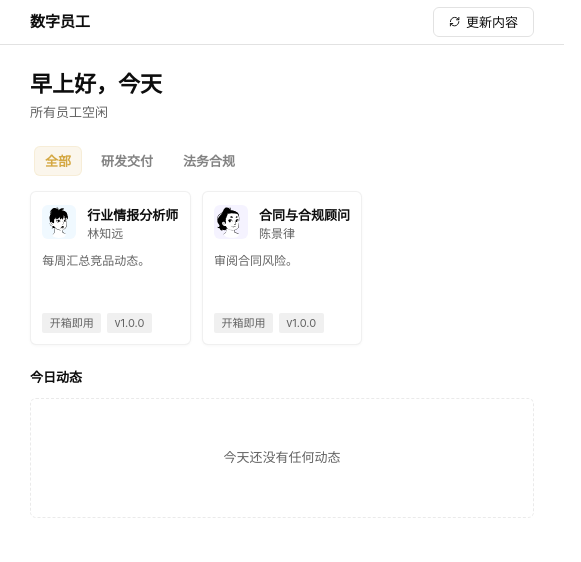
Test: EmployeesPage › filters employee templates with horizontal category tabs
Expected: the button "全部" is shown, top-left (34, 146), bottom-right (82, 176)
Expected: the button "研发交付" is shown, top-left (90, 146), bottom-right (164, 176)
Click the button "法务合规" at (209, 161), box top-left (172, 146), bottom-right (246, 176)
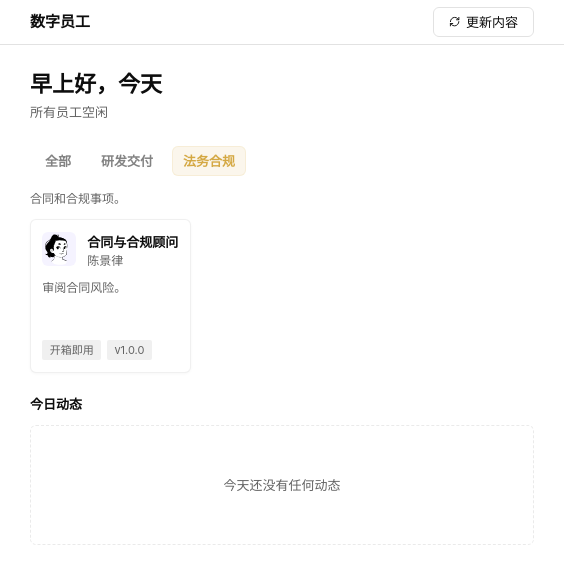
Expected: the text "陈景律" is shown, top-left (87, 253), bottom-right (123, 268)
Expected: the button "林知远" is gone
Expected: the text "合同和合规事项。" is shown, top-left (30, 191), bottom-right (126, 206)
